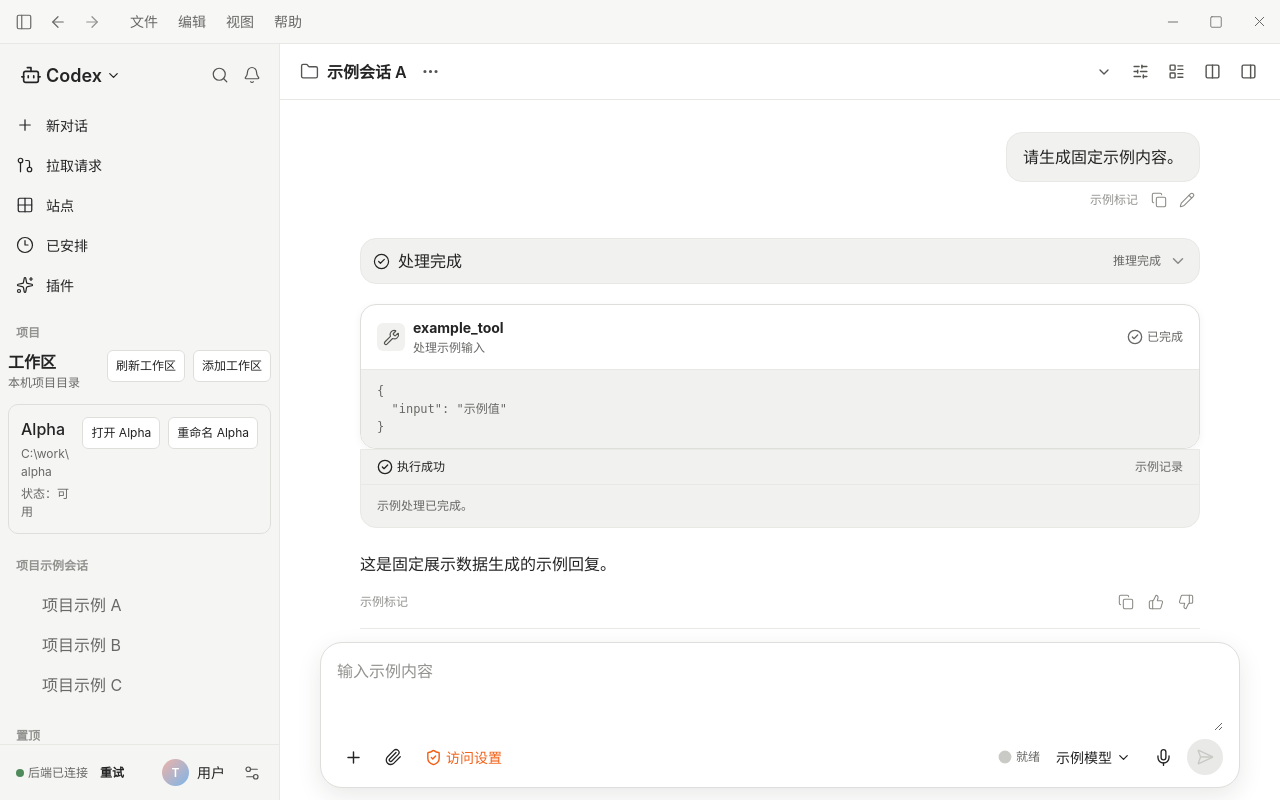
it: App workspace integration › loads only after Backend Connected, and wires Add, Open, and Rename through the controller
The image size is (1280, 800).
Expected: the text "后端已连接" is shown, [28,765,88,780]
Click the button "打开 Alpha" at point(121, 433), box [82,417,160,449]
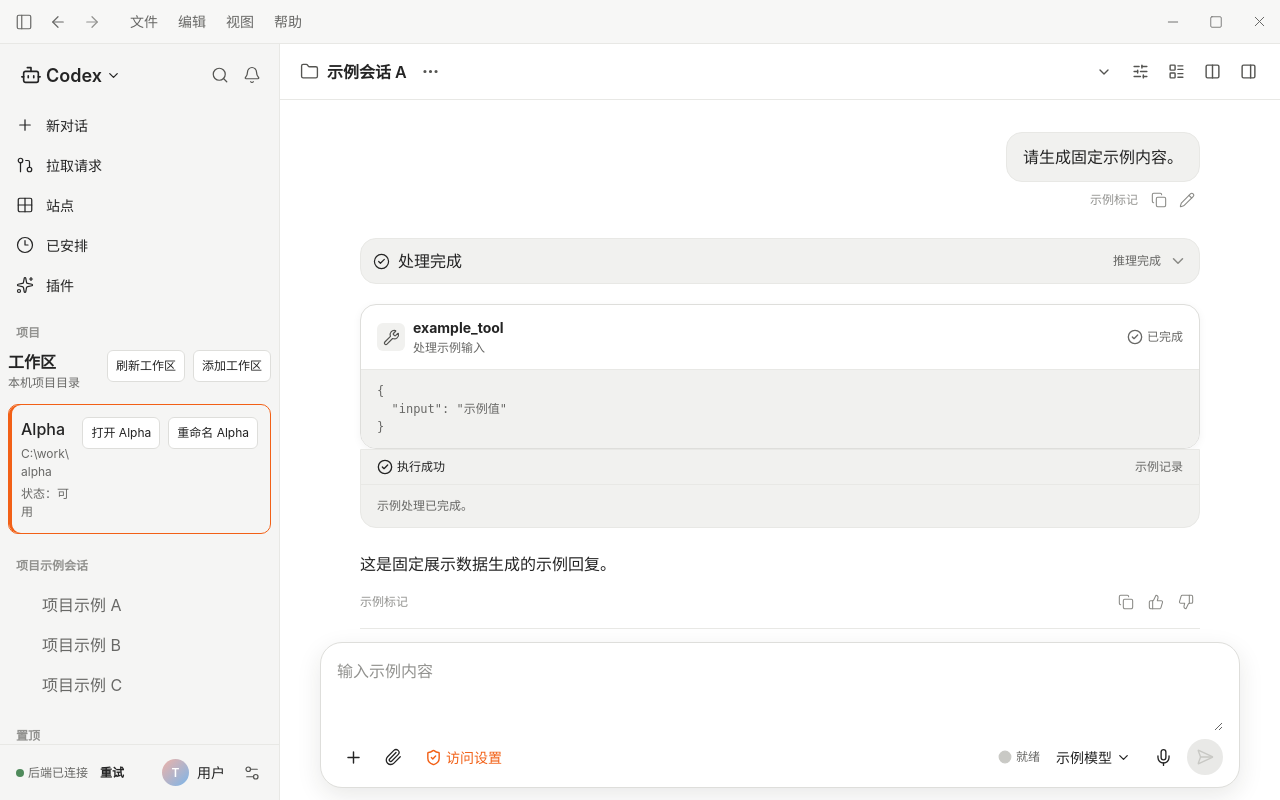
Result: the list item "Alpha" is marked as current at [8,404,271,534]
Click the button "添加工作区" at point(232, 366), box [193,350,271,382]
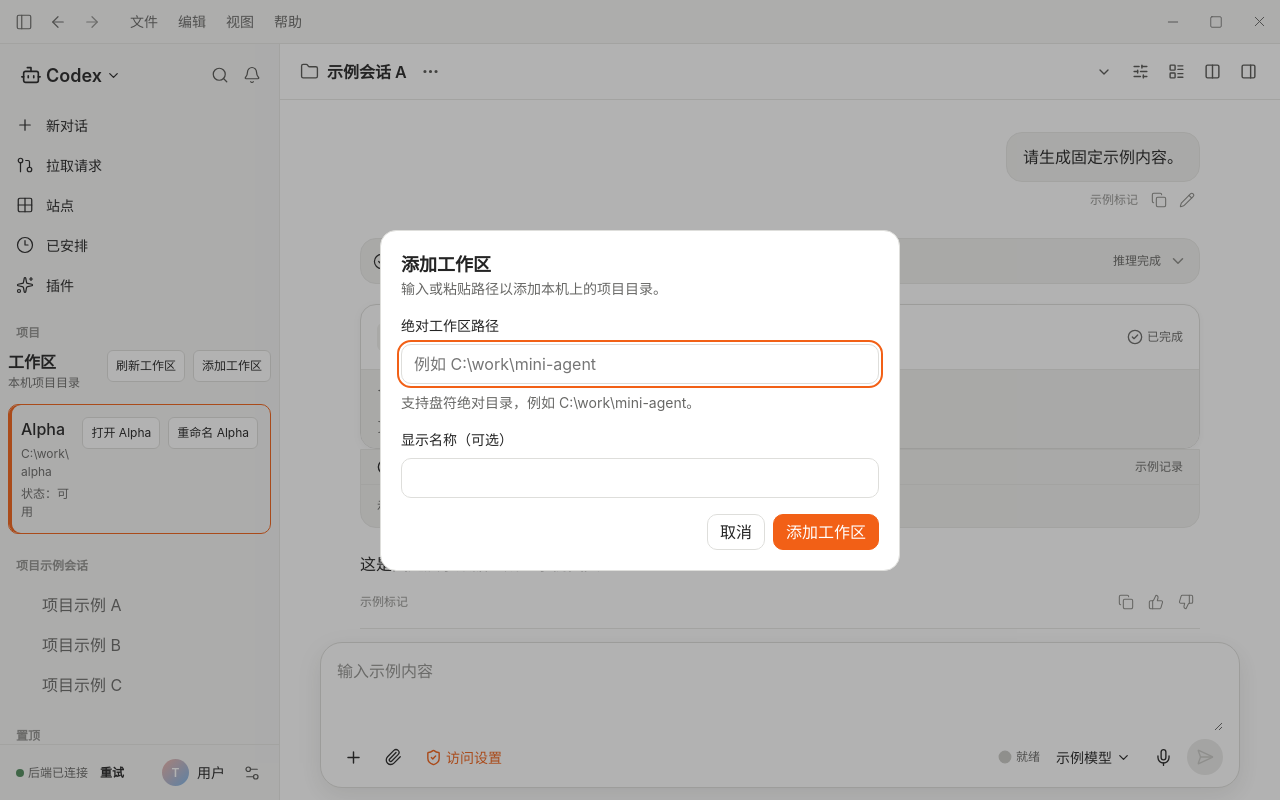
Type "C:\\work\\beta" into the field labelled "绝对工作区路径" at point(640, 364), box [401,344,879,384]
Type "Beta" into the field labelled "显示名称（可选）" at point(640, 478), box [401,458,879,498]
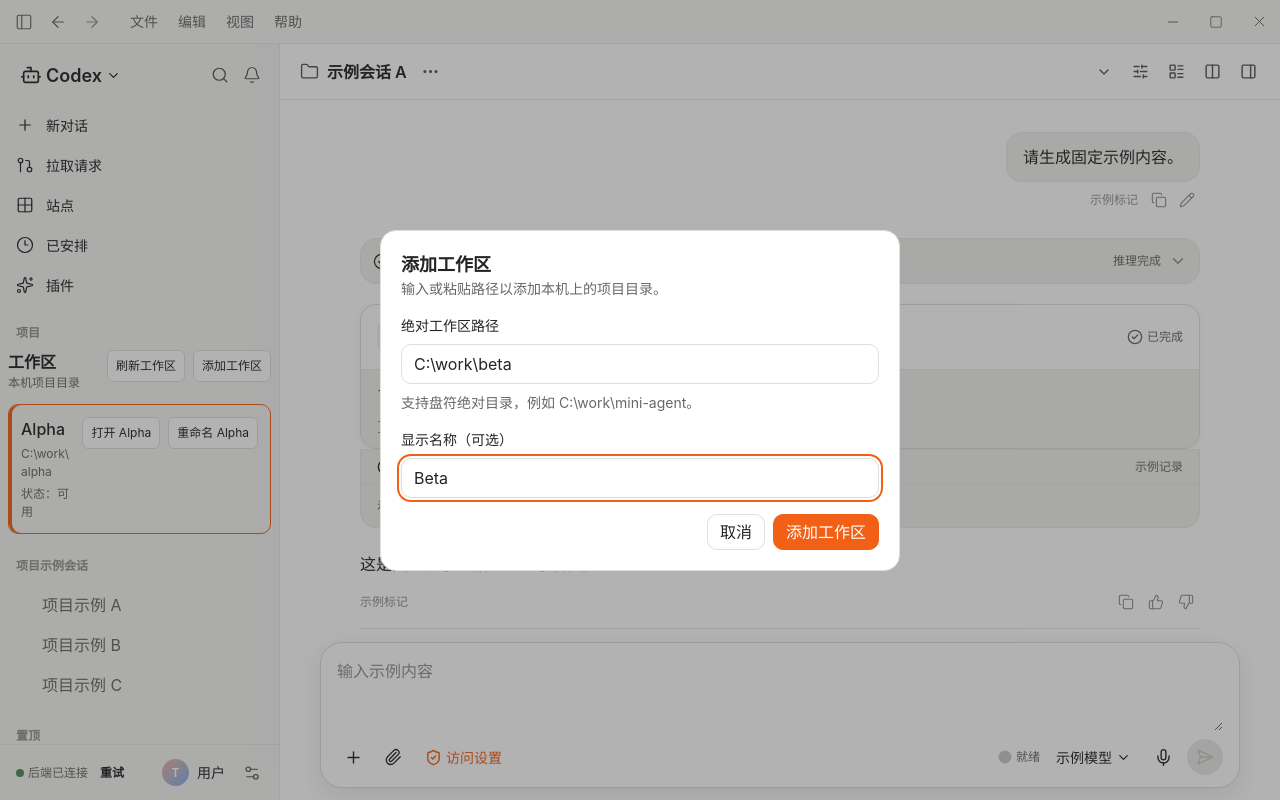
Click the button "添加工作区" at point(826, 532), box [773,514,879,550]
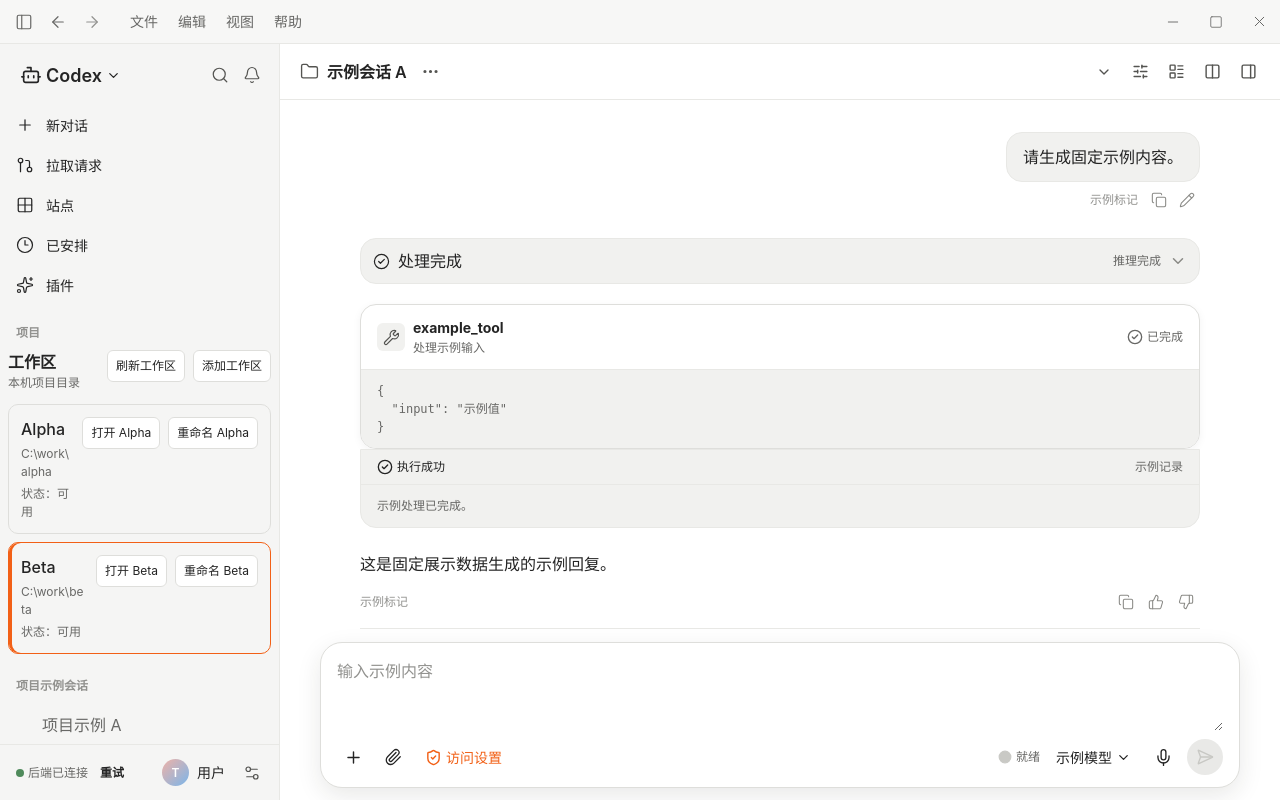
Result: the button "重命名 Beta" is shown
Click the button "重命名 Beta" at point(216, 571), box [175,555,258,587]
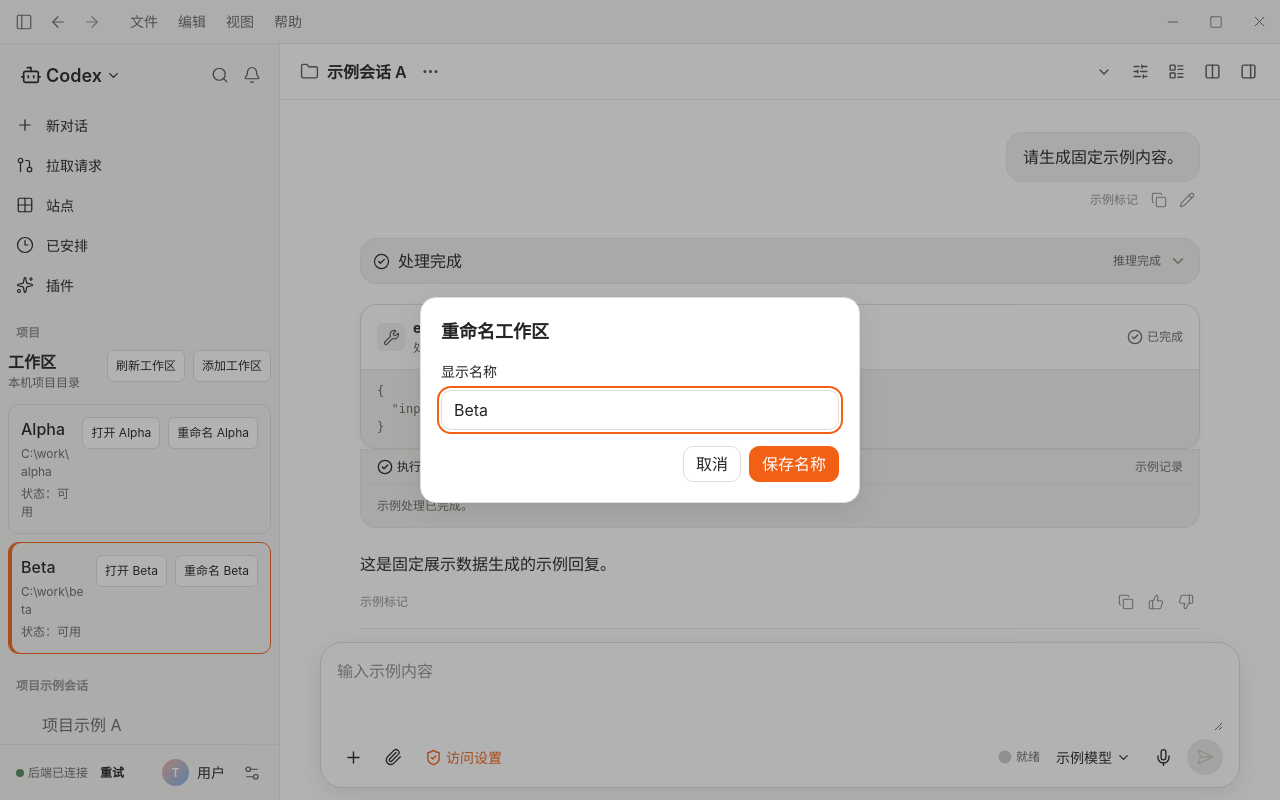
Replace the text in the field labelled "显示名称" with "Beta 已重命名" at point(640, 410), box [441,390,839,430]
Click the button "保存名称" at point(794, 464), box [749,446,839,482]
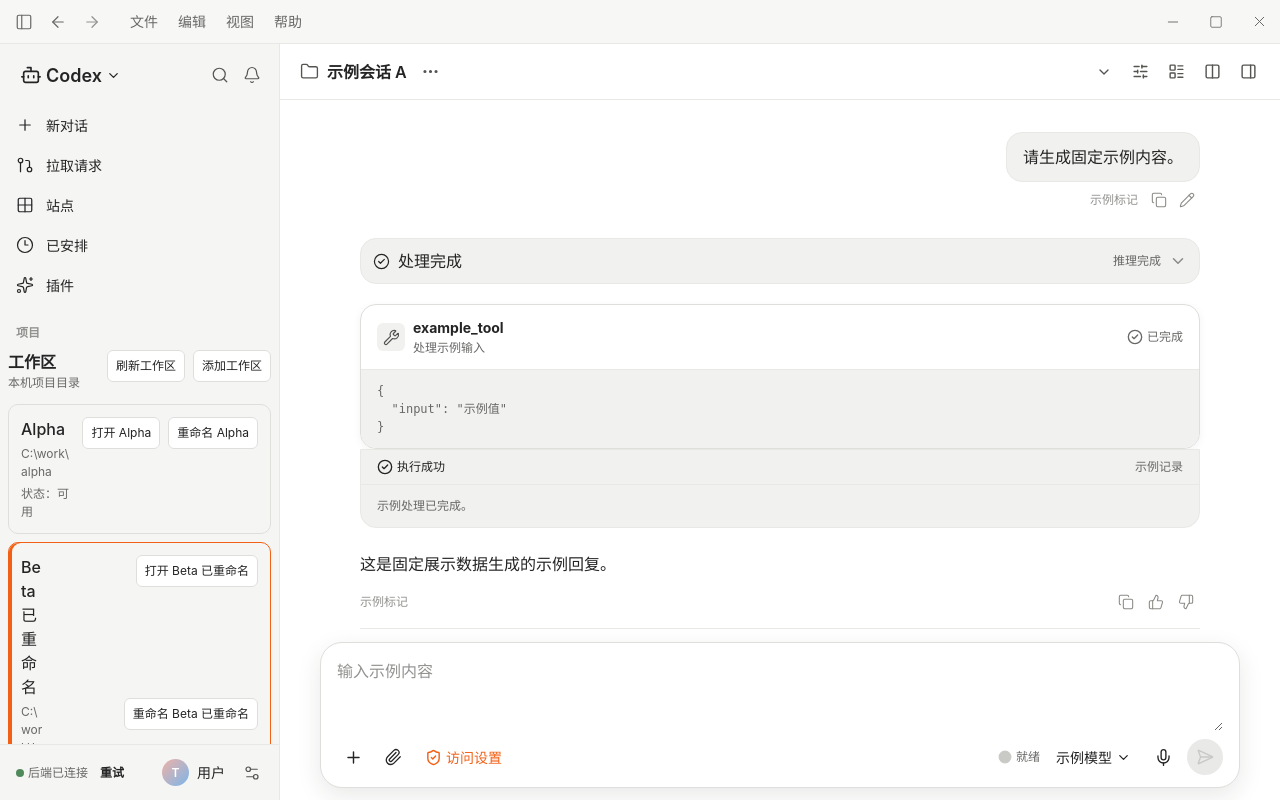
Result: the button "重命名 Beta 已重命名" is shown at [124,698,258,730]
